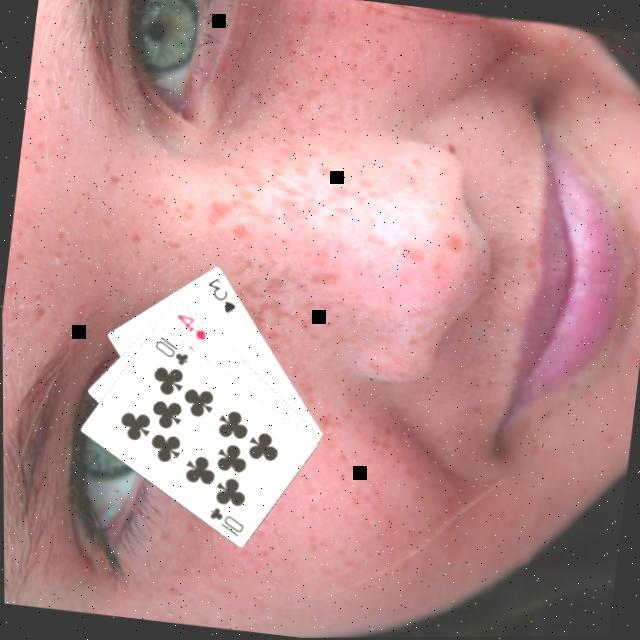10C: (200, 501, 246, 539), (146, 330, 191, 368)
3S: (198, 272, 239, 316)
4D: (168, 308, 209, 342)
